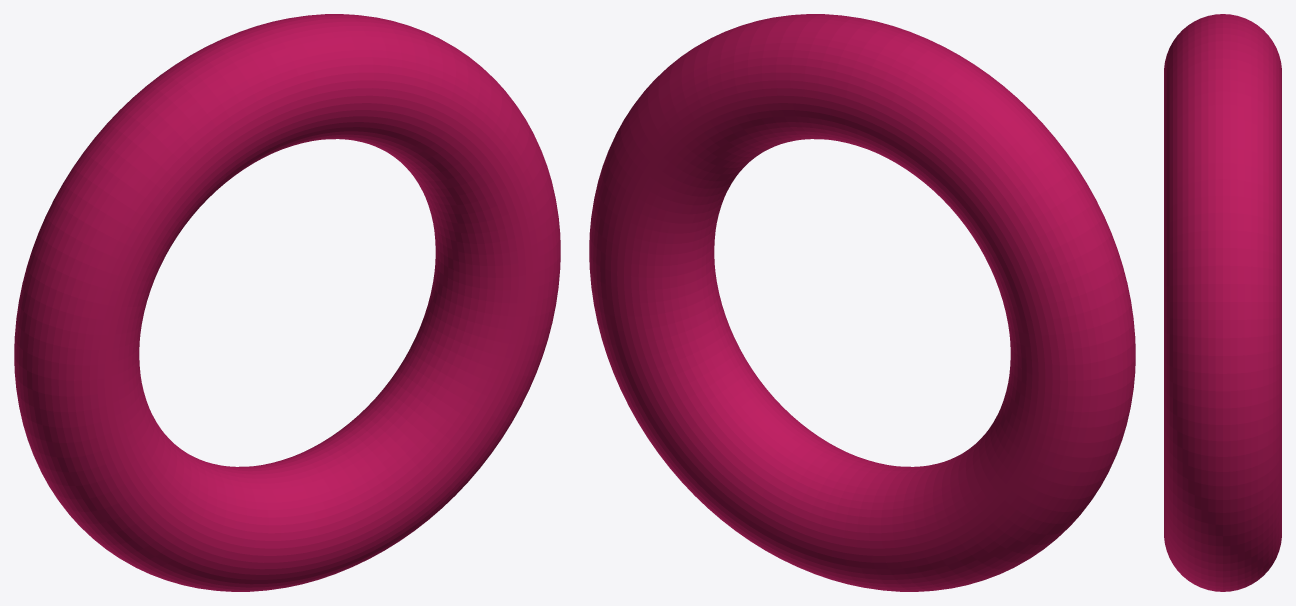
The picture shows the model from 3 angles, left to right: view 1: azimuth 30°, elevation 25°; view 2: azimuth 150°, elevation 25°; view 3: azimuth 270°, elevation 25°; orthographic projection. The views are drawn at different scales.
Visible parts, largest first — view 1: world; view 2: world; view 3: world.
Part boxes in pixels (x1,y1,x2,y2): world: (14, 14, 560, 591); world: (589, 14, 1135, 591); world: (1164, 14, 1281, 591).
Size of the model in its own units: 29.33 by 29.33 by 5.99.
